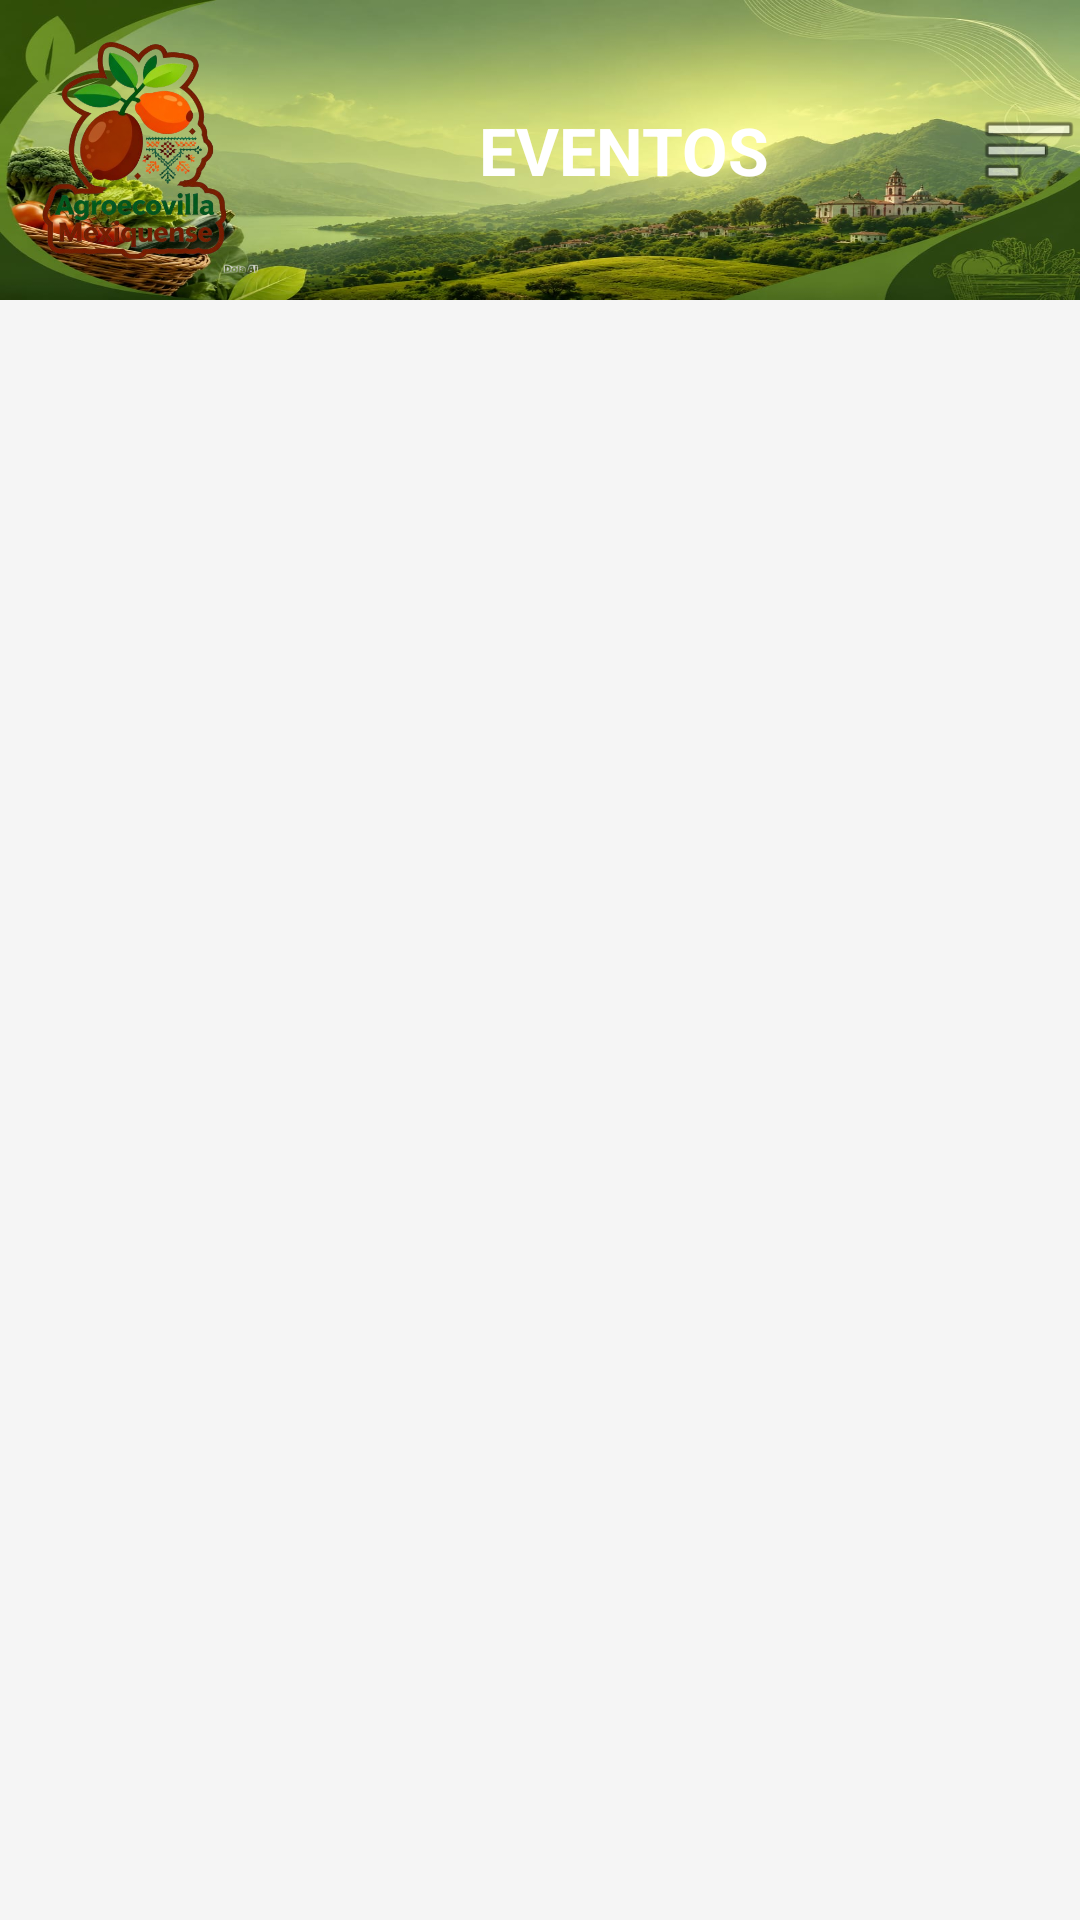

Screen size 1080×1920. Icon name, then its center in pixels as point (x, y):
sort by size: point (1029, 150)
